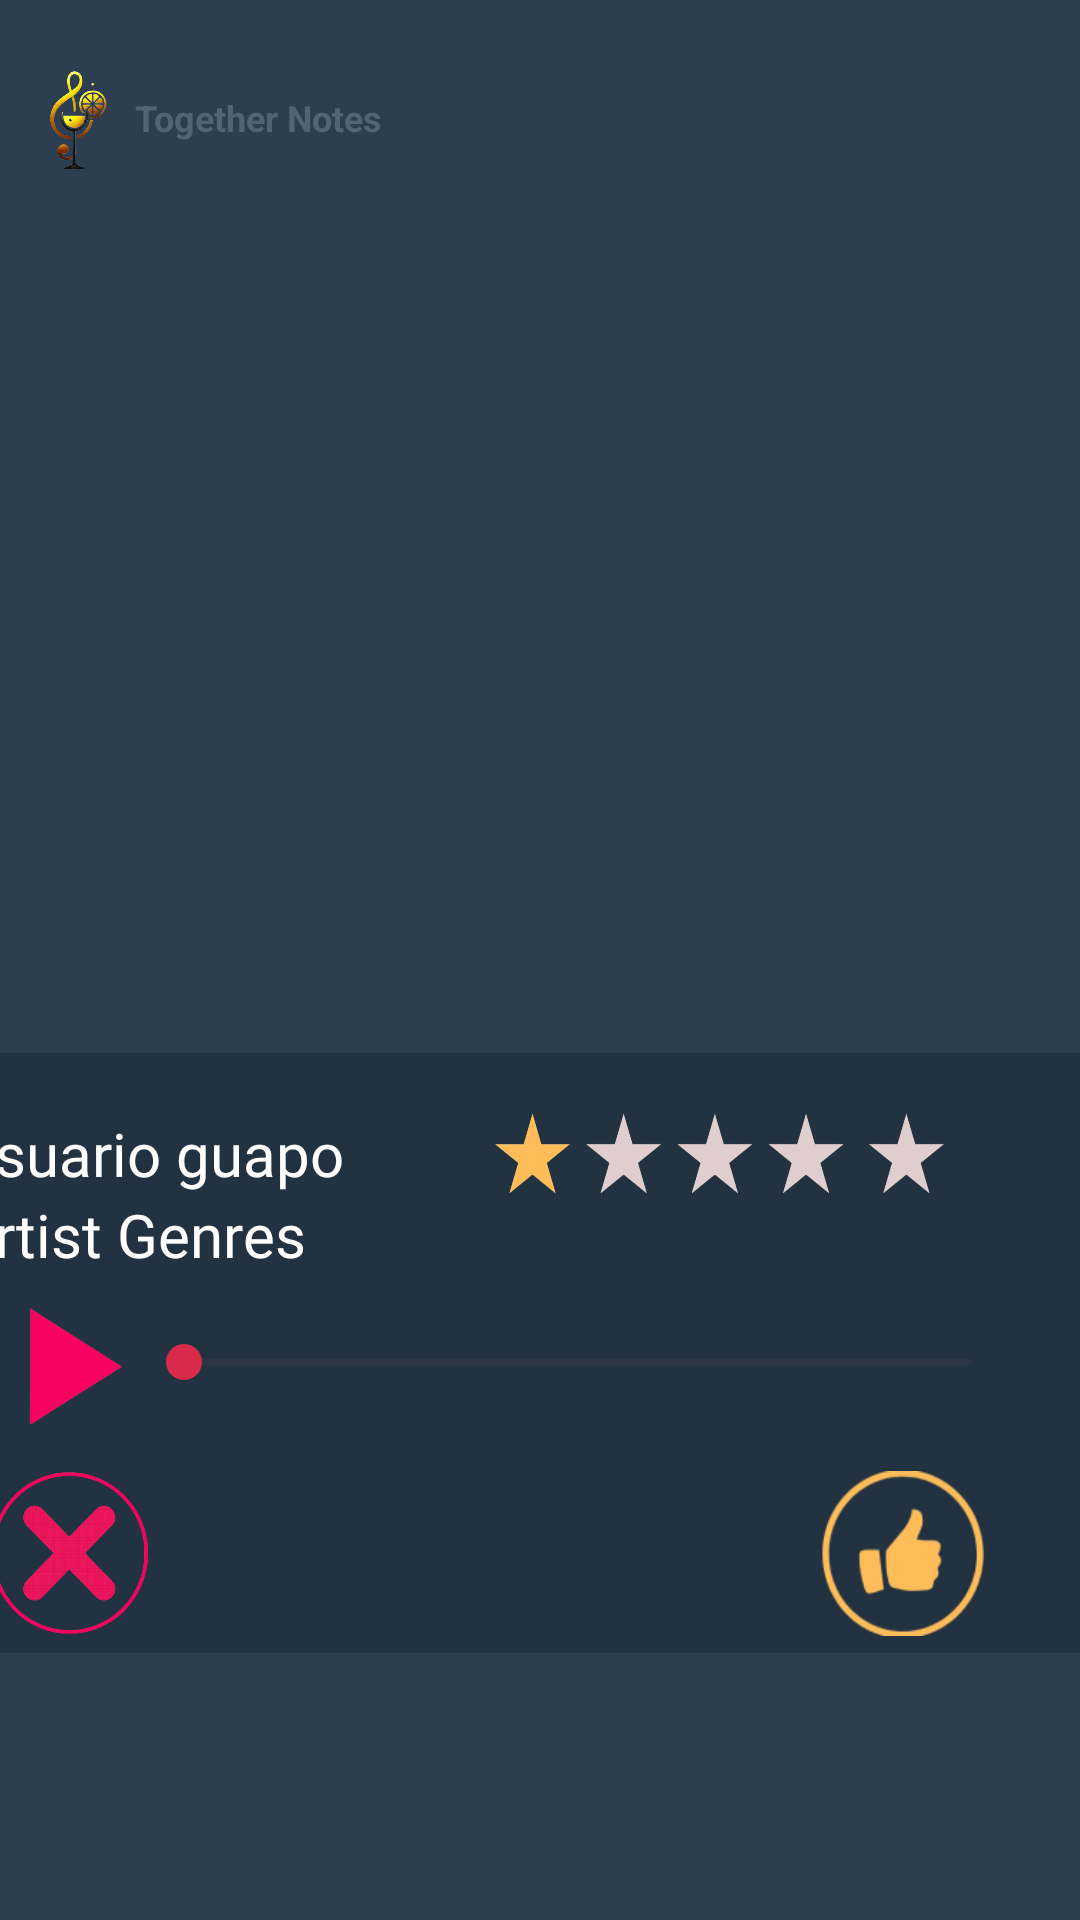

Named icons in this screenshot (1080px×1920px) and their centers, (x,y):
discard match: (74,1553)
make match: (903,1553)
play: (76,1366)
